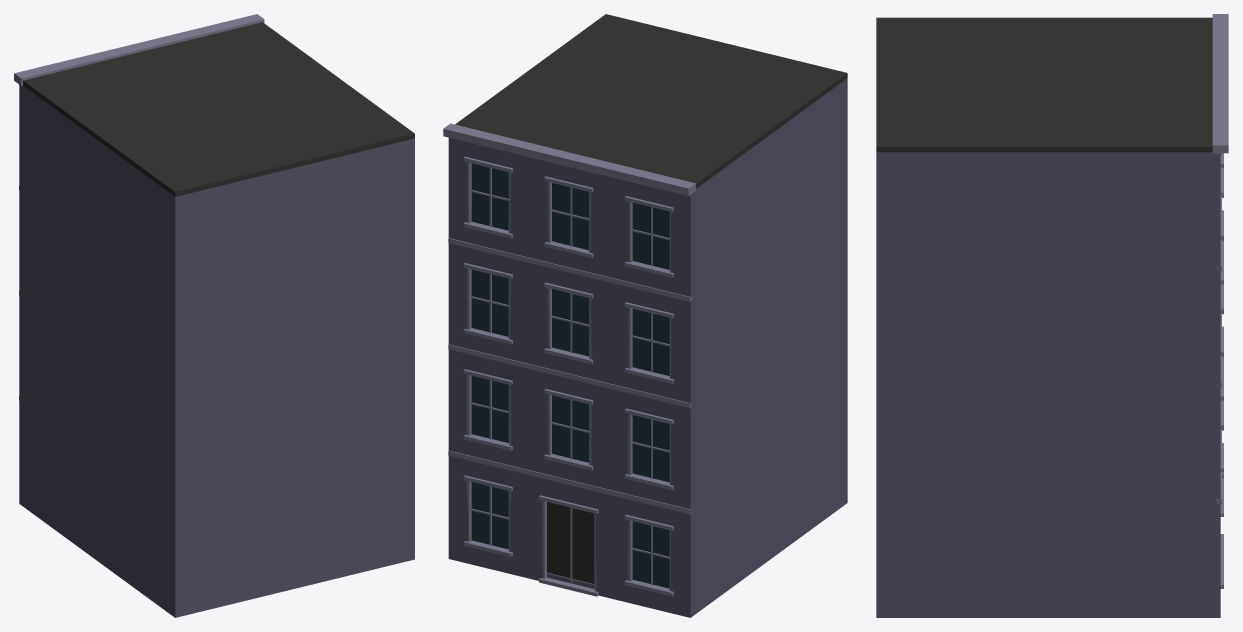
Rendered from office_3b_4f.obj.
3 views of the same model, side by side, from view 1: azimuth 30°, elevation 25°; view 2: azimuth 150°, elevation 25°; view 3: azimuth 270°, elevation 25° (orthographic). The views are drawn at different scales.
Parts seen in each view (by area): view 1: rear_1, party_wall_2, roof_slab_139, side_3, cornice_138, foundation_0; view 2: party_wall_2, roof_slab_139, cornice_138, door_18, wall_pier_4, wall_pier_36, wall_pier_70, wall_pier_104, rear_1, recessed_glass_96, recessed_glass_8, recessed_glass_28 (+55 smaller); view 3: side_3, roof_slab_139, rear_1, cornice_138, foundation_0, wall_pier_127, wall_pier_93, wall_pier_59, wall_pier_25.
Boxes of the visible parts, box(x1,y1,x2,y2) form: rear_1: box(171, 138, 414, 617); party_wall_2: box(21, 85, 182, 617); roof_slab_139: box(23, 22, 414, 196); side_3: box(407, 139, 414, 560); cornice_138: box(14, 14, 264, 85); foundation_0: box(21, 498, 414, 617); party_wall_2: box(694, 80, 847, 613); roof_slab_139: box(455, 14, 847, 188); cornice_138: box(443, 123, 695, 195); door_18: box(547, 502, 594, 583); wall_pier_4: box(671, 509, 694, 617); wall_pier_36: box(671, 403, 694, 511); wall_pier_70: box(671, 296, 694, 404); wall_pier_104: box(671, 192, 694, 298); rear_1: box(843, 78, 847, 504); recessed_glass_96: box(471, 269, 508, 336); recessed_glass_8: box(632, 521, 669, 588); recessed_glass_28: box(471, 482, 508, 549); side_3: box(876, 152, 1216, 617); roof_slab_139: box(876, 17, 1212, 152); rear_1: box(876, 152, 885, 617); cornice_138: box(1212, 14, 1228, 153); foundation_0: box(876, 609, 1216, 617); wall_pier_127: box(1211, 153, 1220, 268); wall_pier_93: box(1211, 269, 1220, 385); wall_pier_59: box(1211, 385, 1220, 500); wall_pier_25: box(1212, 501, 1220, 617).
Bounding box in the file's own units: 8.22 × 13.84 × 9.33.
